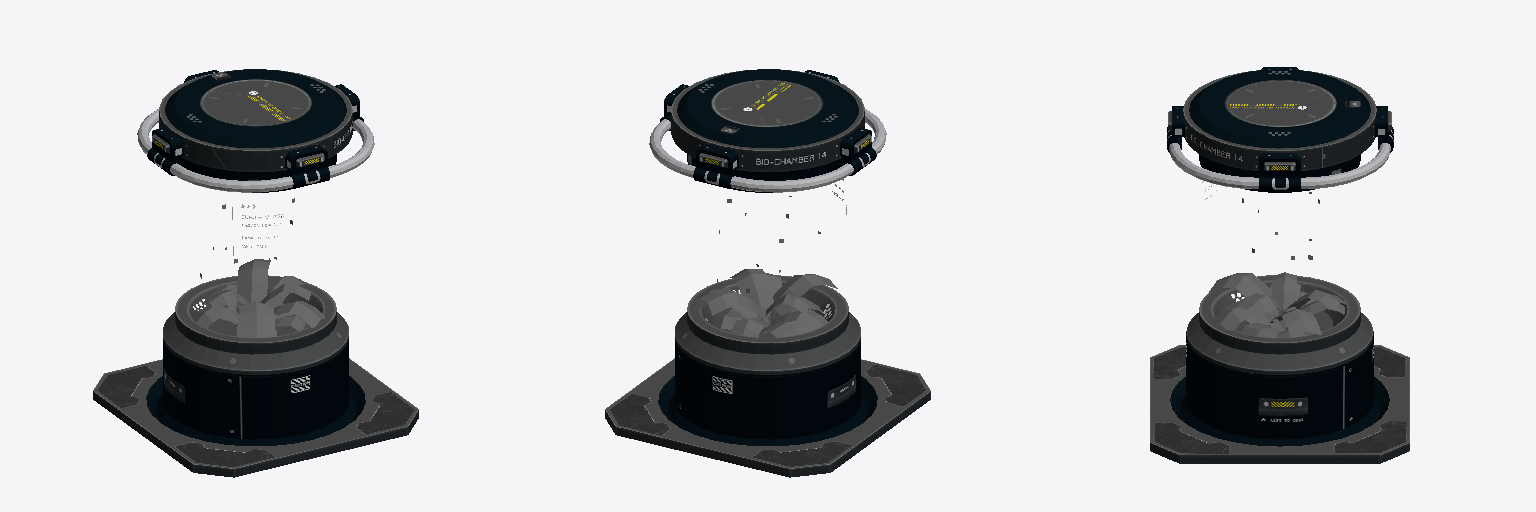
3 renders of one model, left to right at view 1: azimuth 30°, elevation 25°; view 2: azimuth 150°, elevation 25°; view 3: azimuth 270°, elevation 25°, orthographic.
Visible parts, largest first — view 1: HydroUnit_02_Mesh; view 2: HydroUnit_02_Mesh; view 3: HydroUnit_02_Mesh.
Part boxes in pixels (x1,y1,x2,y2): HydroUnit_02_Mesh: (93, 69, 418, 477); HydroUnit_02_Mesh: (605, 69, 930, 477); HydroUnit_02_Mesh: (1150, 67, 1409, 463).
Bounding box in the file's own units: 3.28 × 4.24 × 3.28.
Materials: 4 (2 with a texture image).